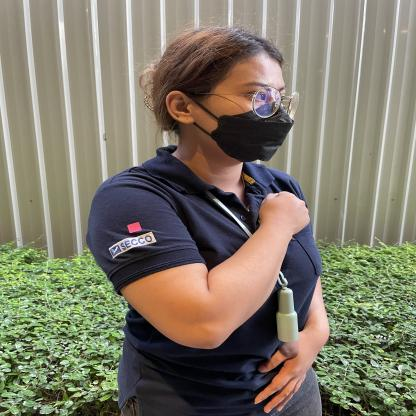Sadness: (180, 178, 346, 314)
